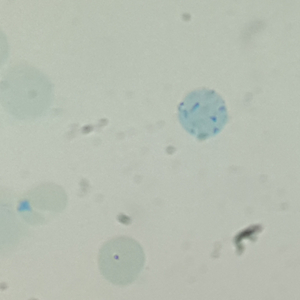aggregate reticulocyte: (175, 87, 231, 141)
erythrocyte: (1, 61, 55, 121), (95, 234, 148, 289), (15, 180, 70, 228)
